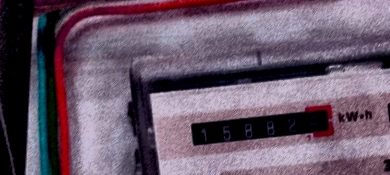1: (196, 123, 207, 141)
2: (283, 113, 296, 132)
5: (218, 122, 230, 140)
7: (306, 118, 318, 130)
8: (239, 119, 252, 137), (262, 116, 274, 135)
screen: (180, 99, 338, 153)
